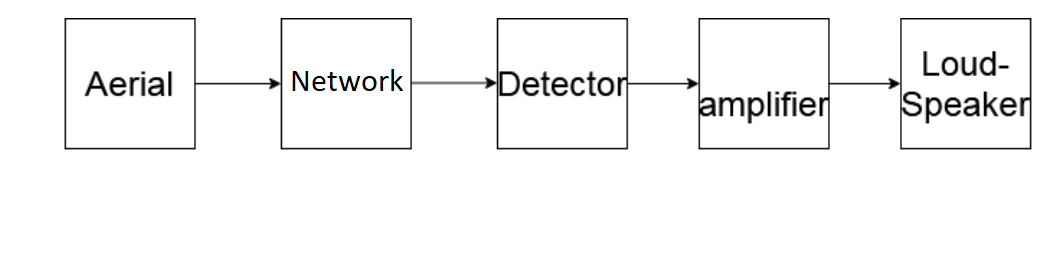arrow: (415, 76, 501, 94), (196, 76, 280, 90), (830, 76, 901, 92), (628, 76, 702, 91)
process: (59, 13, 200, 158), (278, 13, 417, 153), (494, 14, 633, 153), (896, 15, 1034, 152), (696, 16, 833, 152)
text: (902, 49, 1036, 126), (703, 90, 827, 124), (499, 68, 628, 100), (290, 68, 402, 100), (81, 67, 177, 103)
